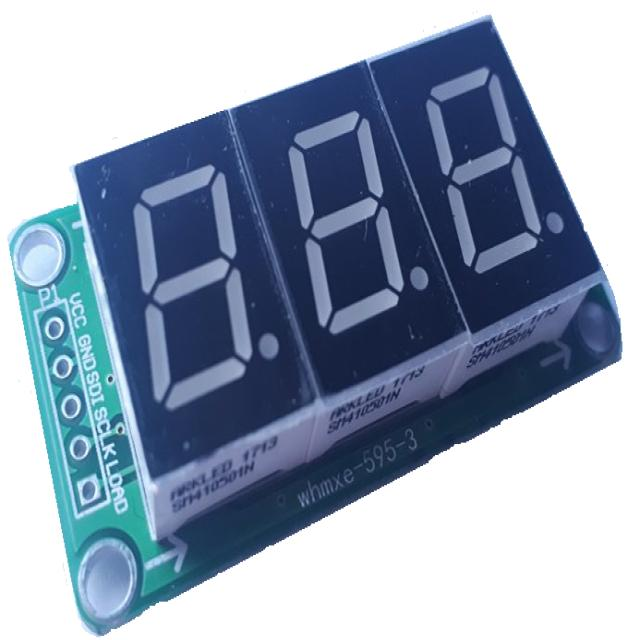Display: (13, 2, 639, 640)
